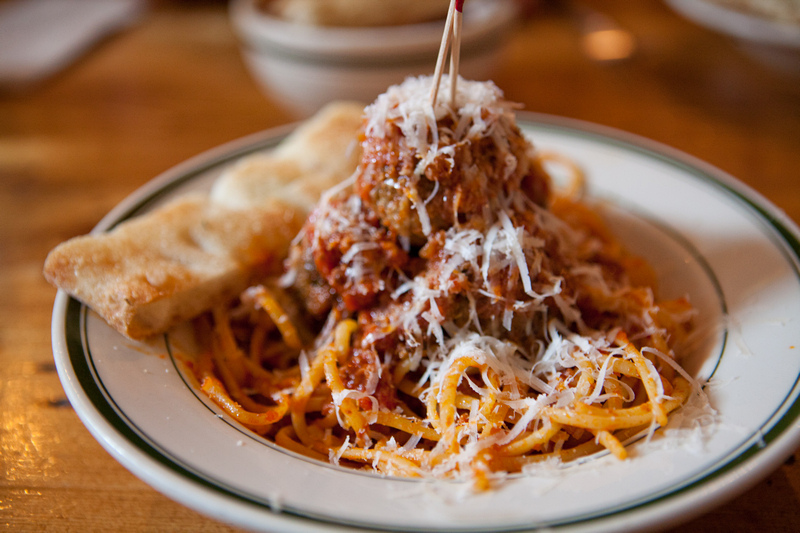meatballs: (366, 88, 524, 238)
plain spaghetti: (221, 287, 688, 472)
slice of bread: (47, 99, 358, 340)
